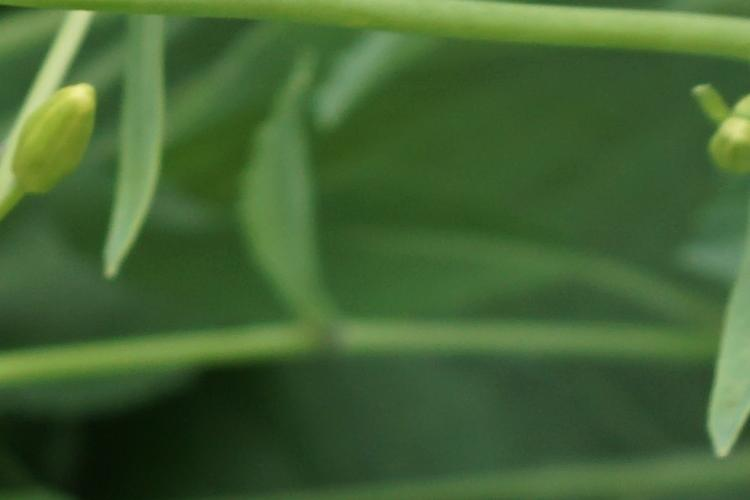bud: (19, 87, 107, 212)
